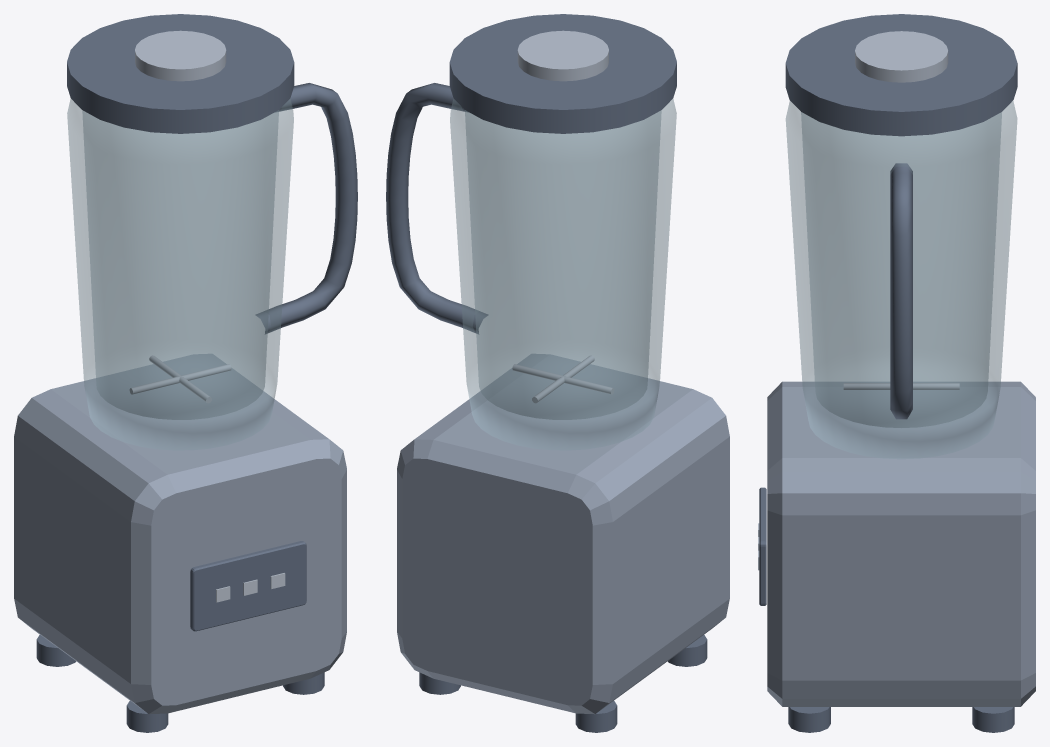
The model's file is power-blender.glb.
The picture shows the model from 3 angles, left to right: view 1: azimuth 30°, elevation 25°; view 2: azimuth 150°, elevation 25°; view 3: azimuth 270°, elevation 25°; orthographic projection.
Parts seen in each view (by area): view 1: body, glass, dark, soft, light; view 2: body, glass, dark, soft, light; view 3: body, glass, dark, soft, light.
Boxes of the visible parts, x1,y1,x2,y2 form: body: (14,354,346,714); glass: (67,98,293,450); dark: (36,14,357,732); soft: (135,30,226,81); light: (129,355,285,602); body: (397,354,729,714); glass: (450,98,676,450); dark: (386,14,707,732); soft: (517,30,608,81); light: (512,355,614,403); body: (767,381,1035,706); glass: (785,101,1017,459); dark: (759,14,1017,732); soft: (855,31,948,82); light: (758,383,959,570).
Size of the model in its own units: 0.2354 by 0.495 by 0.1965.
